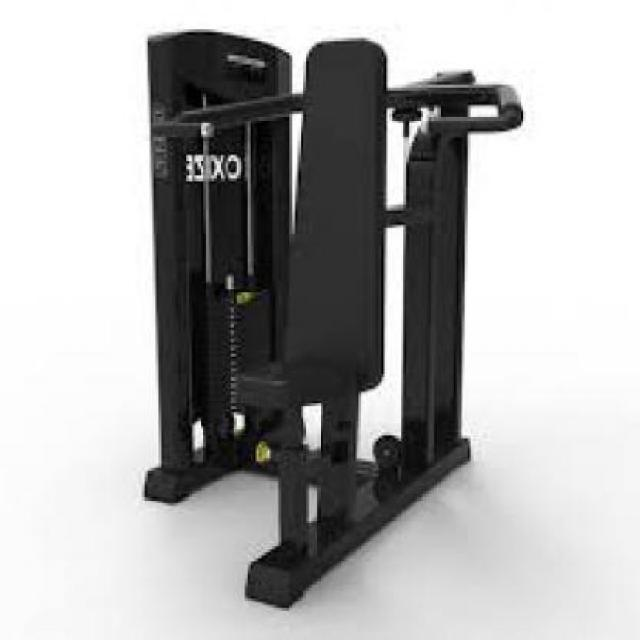shoulder press machine: (118, 20, 530, 614)
